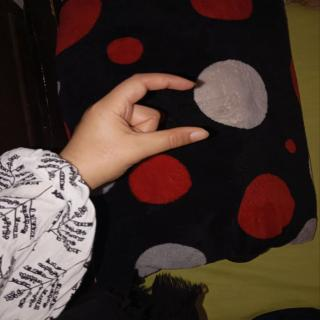DELL: (60, 68, 221, 185)
